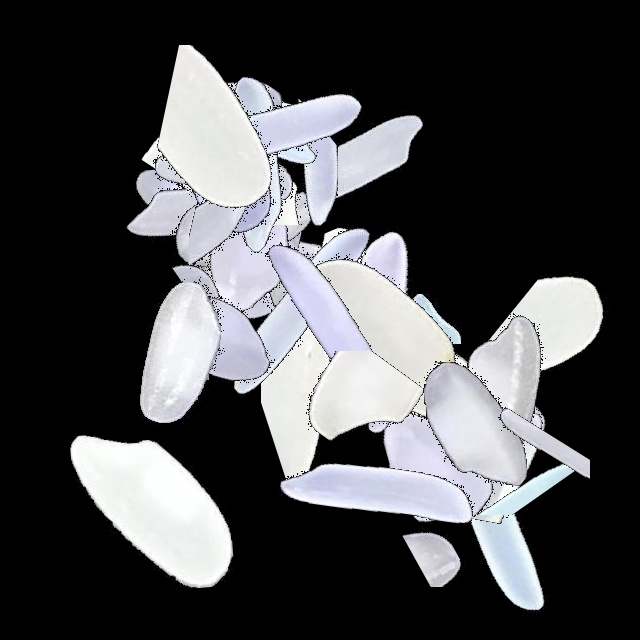Broken: (122, 45, 372, 213), (117, 122, 278, 372), (244, 221, 494, 381), (129, 89, 379, 243), (321, 50, 472, 300), (285, 421, 535, 571), (261, 265, 411, 515), (138, 80, 388, 225), (199, 46, 338, 296), (488, 240, 624, 490), (424, 329, 558, 579), (225, 351, 475, 479), (189, 119, 314, 369), (96, 164, 346, 287), (469, 368, 590, 618), (390, 381, 640, 500), (368, 398, 618, 515), (164, 183, 275, 433), (111, 227, 361, 334), (430, 193, 533, 443), (335, 486, 585, 587), (105, 219, 355, 316), (249, 89, 335, 339), (311, 188, 391, 438), (404, 178, 484, 428)
Full: (227, 222, 477, 472), (148, 150, 398, 400), (373, 390, 623, 640), (257, 245, 507, 495), (73, 91, 323, 341), (370, 319, 620, 569), (314, 340, 564, 590), (116, 97, 366, 347), (220, 203, 470, 453), (257, 207, 507, 457), (124, 127, 374, 377), (172, 183, 422, 433), (254, 363, 504, 613), (263, 211, 513, 461), (85, 213, 335, 463), (54, 228, 304, 478), (103, 0, 353, 250), (378, 265, 628, 515), (126, 0, 376, 250), (98, 52, 348, 302), (126, 37, 376, 287), (100, 50, 350, 300), (136, 6, 386, 256), (26, 387, 276, 637), (351, 300, 601, 550)
